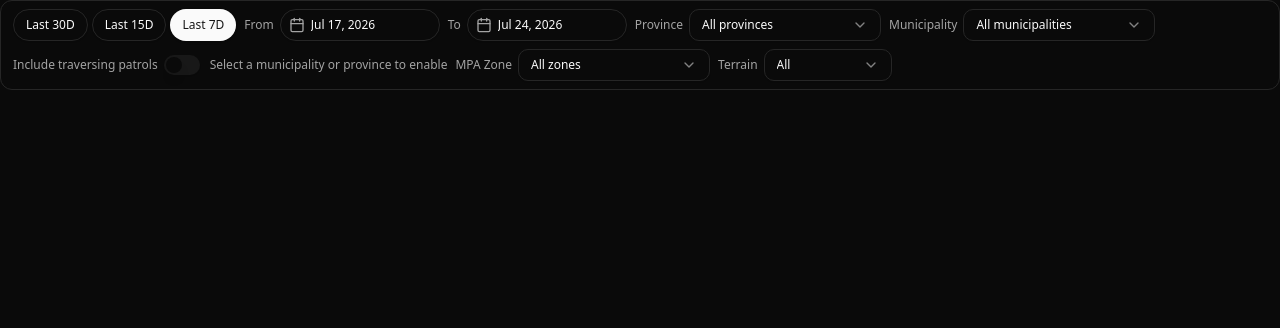
Test case: ReportFilterBar › shows the Include child boundaries toggle only once a specific municipality is selected
The image size is (1280, 328).
Click the dropdown with test id "report-municipality" at (1059, 25), box [963,9,1155,41]
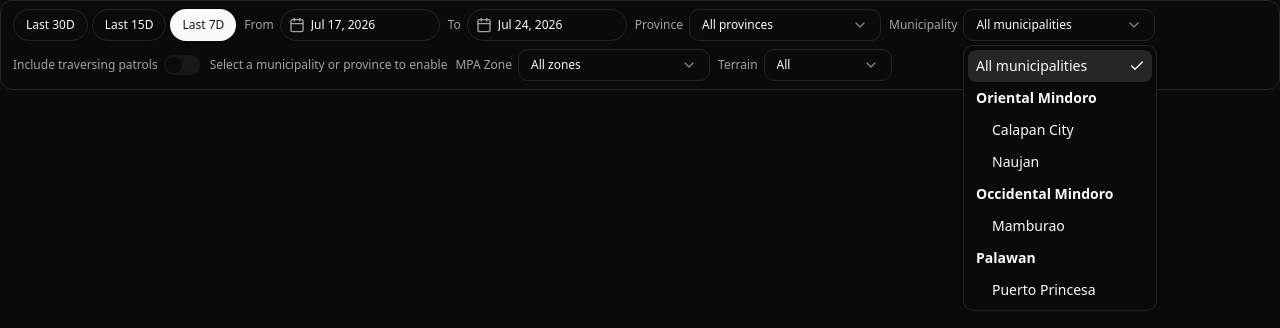
Click the option "Calapan City" at (1033, 130), box [992,120,1074,139]
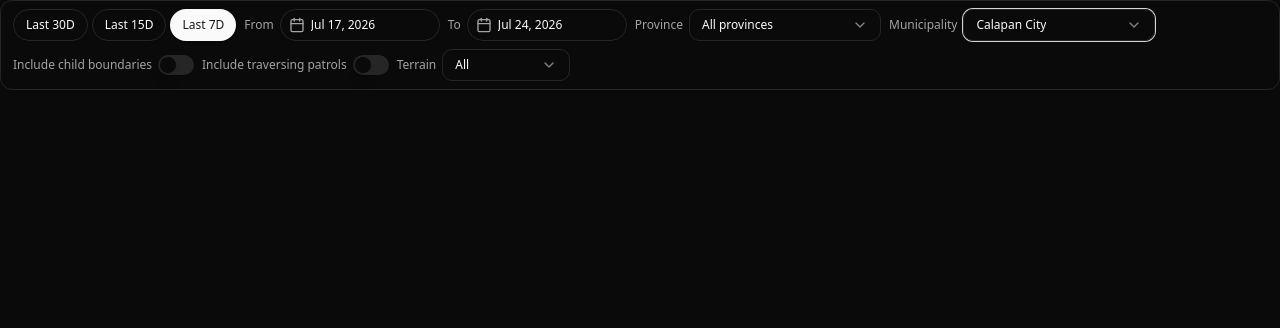
expect the switch with test id "report-include-children" is shown: met, box [158,55,194,75]
